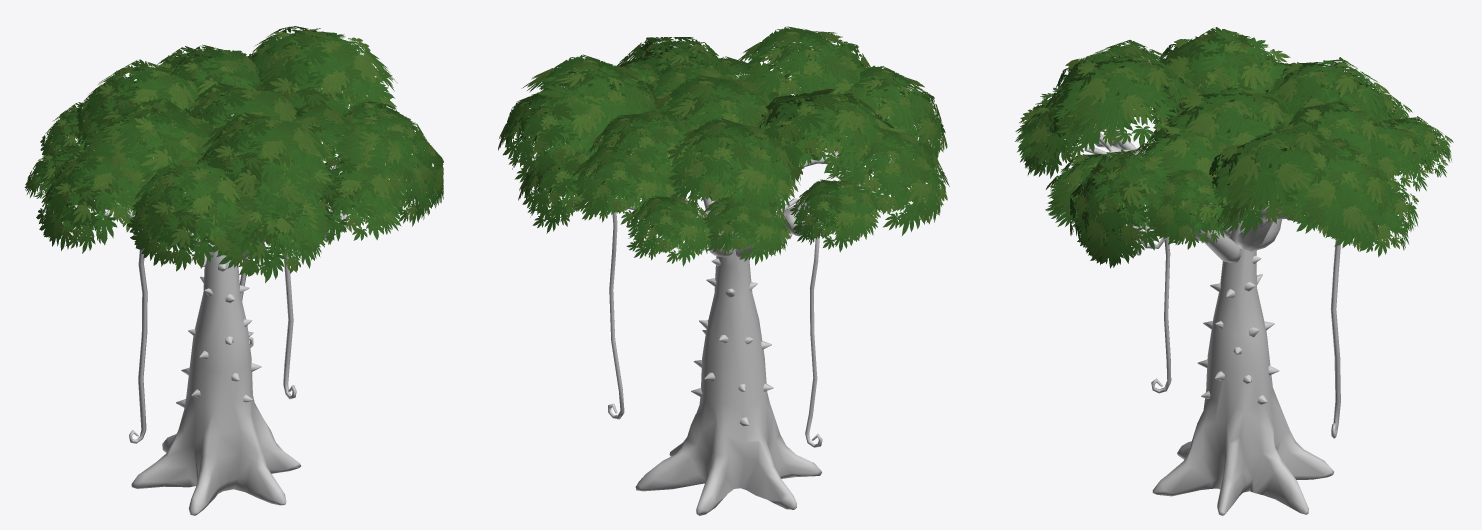
File: poe_tree.fbx
3 renders of one model, left to right at view 1: azimuth 30°, elevation 25°; view 2: azimuth 150°, elevation 25°; view 3: azimuth 270°, elevation 25°, orthographic. The views are drawn at different scales.
Visible parts, largest first — view 1: Plane.100, Vert_003, Plane.101, Plane.103, Vert.002, Plane.105, Plane.113; view 2: Plane.105, Plane.101, Vert.002, Vert_003, Plane.100, Plane.103, Plane.113; view 3: Vert.002, Vert_003, Plane.103, Plane.100, Plane.105, Plane.101, Plane.113.
Boxes of the visible parts, <box> form: Plane.100: <box>127,112,334,282</box>; Vert_003: <box>131,192,300,515</box>; Plane.101: <box>24,98,221,443</box>; Plane.103: <box>240,101,443,399</box>; Vert.002: <box>168,26,397,347</box>; Plane.105: <box>40,46,226,233</box>; Plane.113: <box>162,82,312,191</box>; Plane.105: <box>572,117,800,266</box>; Plane.101: <box>735,89,949,447</box>; Vert.002: <box>498,54,704,419</box>; Vert_003: <box>635,114,821,515</box>; Plane.100: <box>733,26,947,176</box>; Plane.103: <box>591,37,782,209</box>; Plane.113: <box>654,75,805,191</box>; Vert.002: <box>1207,99,1418,438</box>; Vert_003: <box>1152,116,1333,515</box>; Plane.103: <box>1045,127,1240,393</box>; Plane.100: <box>1015,40,1231,237</box>; Plane.105: <box>1255,57,1453,250</box>; Plane.101: <box>1150,27,1302,141</box>; Plane.113: <box>1147,84,1304,176</box>.
Bounding box in the file's own units: 2113 × 2003 × 2017.
